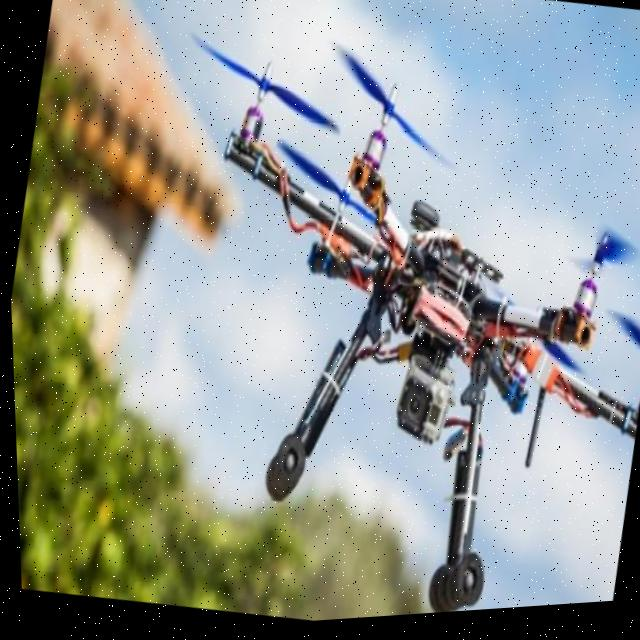drones: (78, 0, 640, 636)
